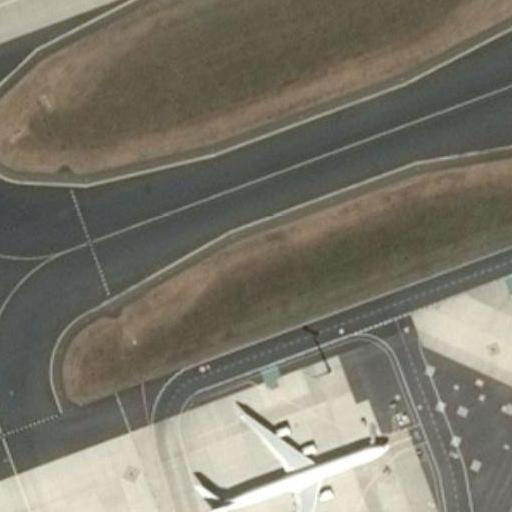Aircraft: (182, 397, 399, 512)
